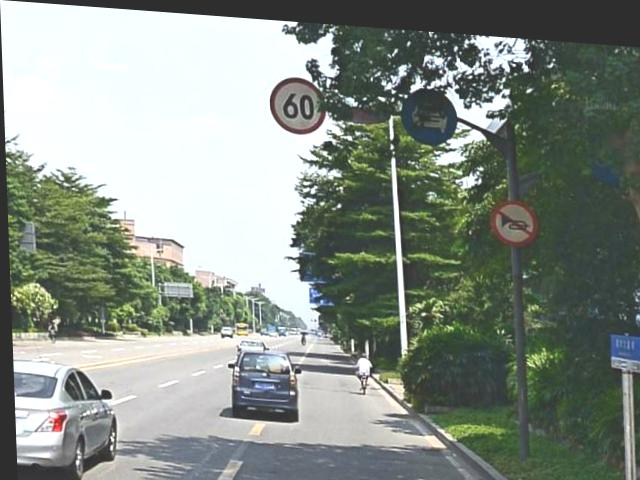limit60: (269, 70, 326, 133)
